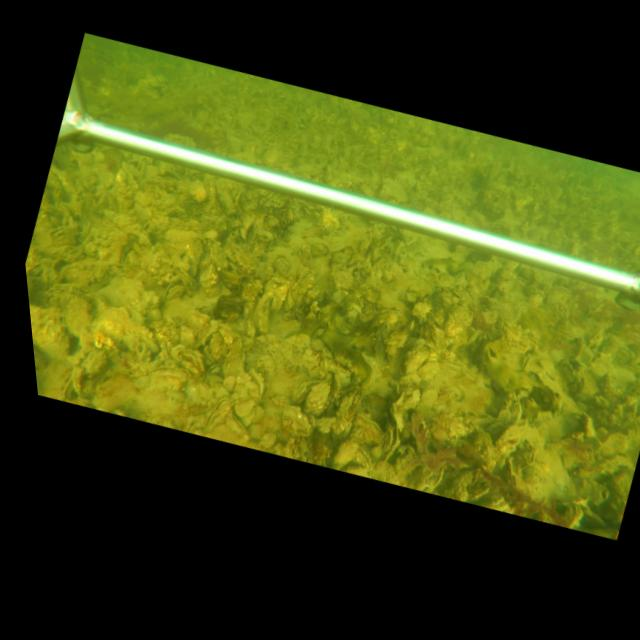Oyster-Closed: (136, 364, 192, 391), (203, 396, 231, 432), (381, 422, 401, 461), (403, 345, 429, 375), (249, 367, 268, 400), (50, 225, 77, 243)
Oyster-Indeterminate: (29, 303, 70, 360), (357, 226, 375, 256)
Oyster-Open: (164, 282, 186, 301), (518, 349, 536, 372)
